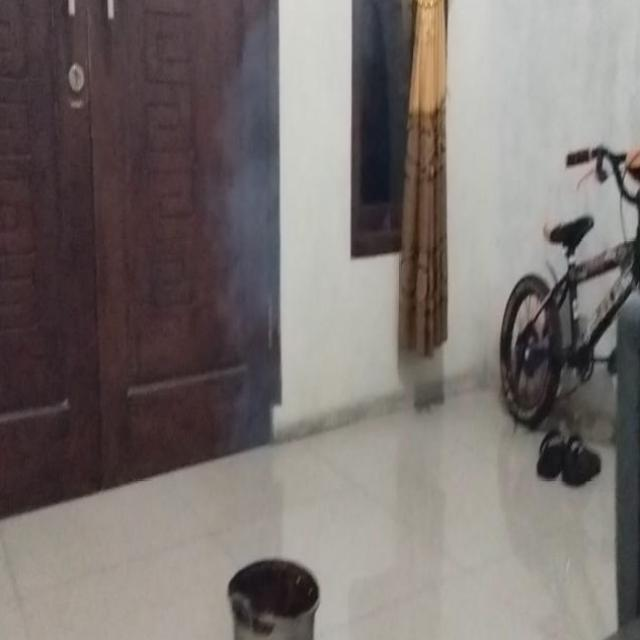fire: (213, 16, 287, 462)
